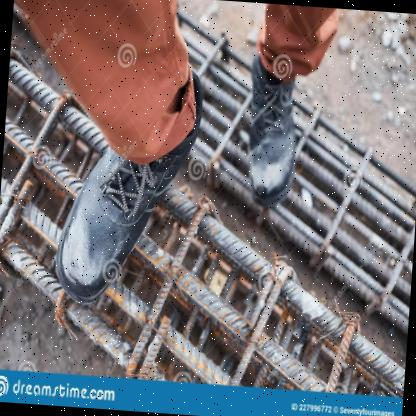bota: (48, 57, 210, 316), (240, 59, 306, 212)
